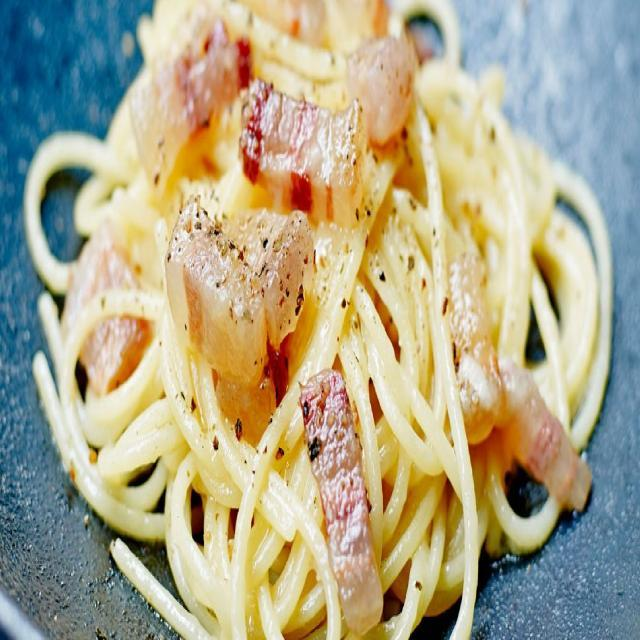Oil pasta: (53, 26, 610, 621)
